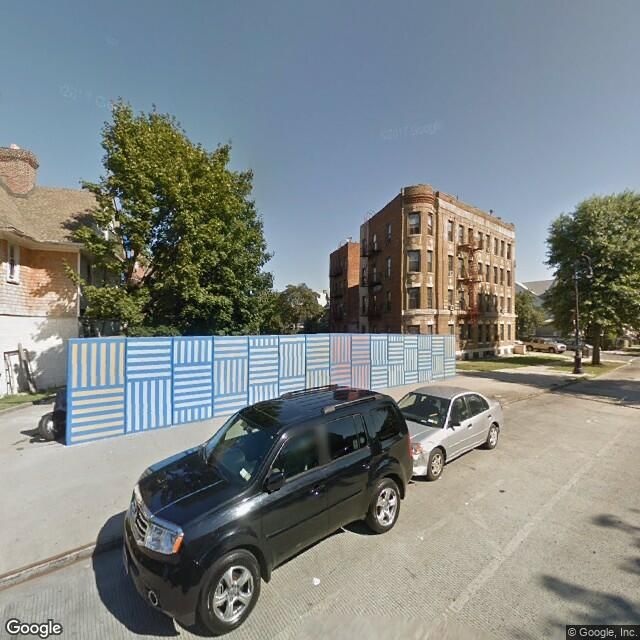litter: (308, 576, 324, 585), (494, 393, 505, 400)
